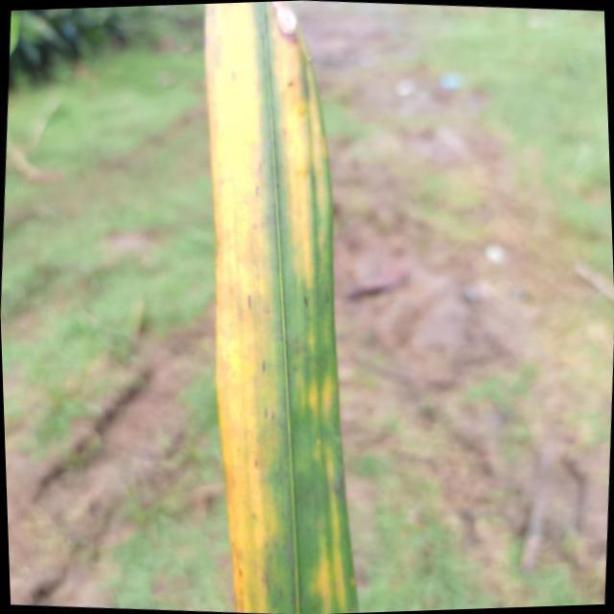Megnesium: (198, 0, 360, 614)
